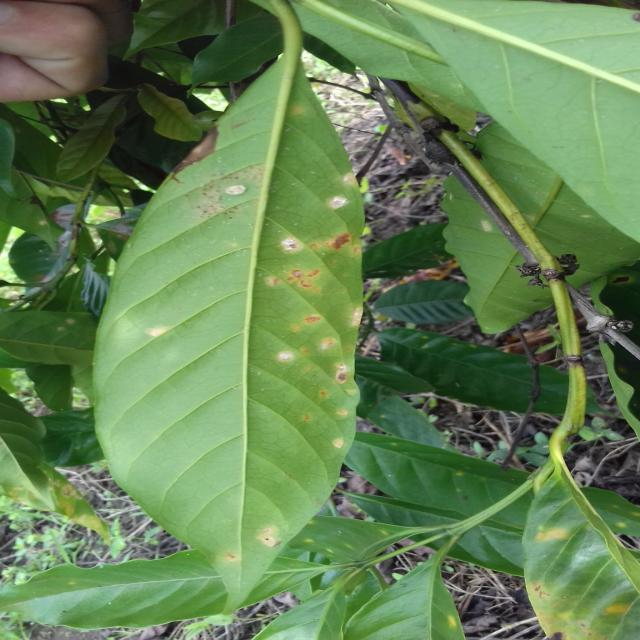Enfermedad-Roya: (88, 0, 367, 600)
